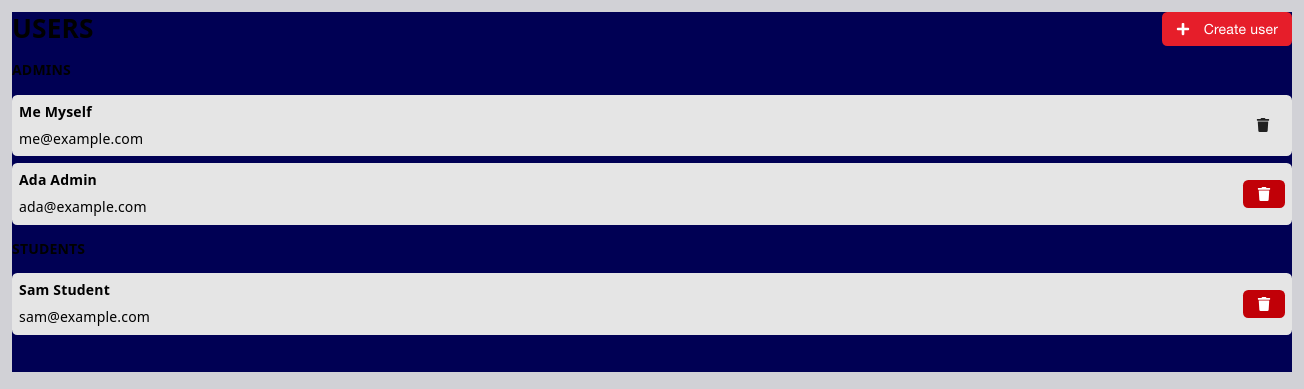
UserPage › deleting › deletes the user and reloads the list when confirmed
The image size is (1304, 389).
Expected: the heading "Admins" is shown, [12,60,71,79]
Click the button named "Delete user" in the row of "Sam Student".
click(1264, 304)  # box [1243,290,1285,318]
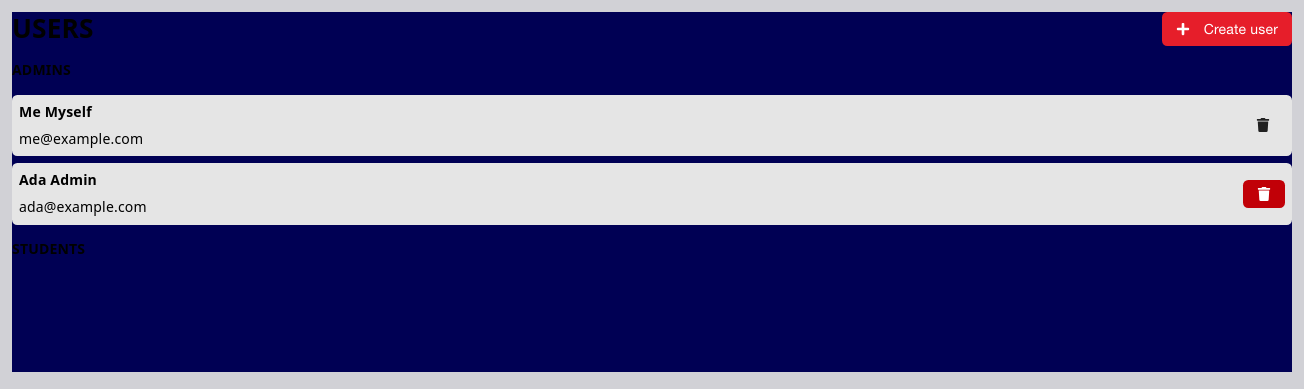
Expected: the text "Sam Student" is gone
